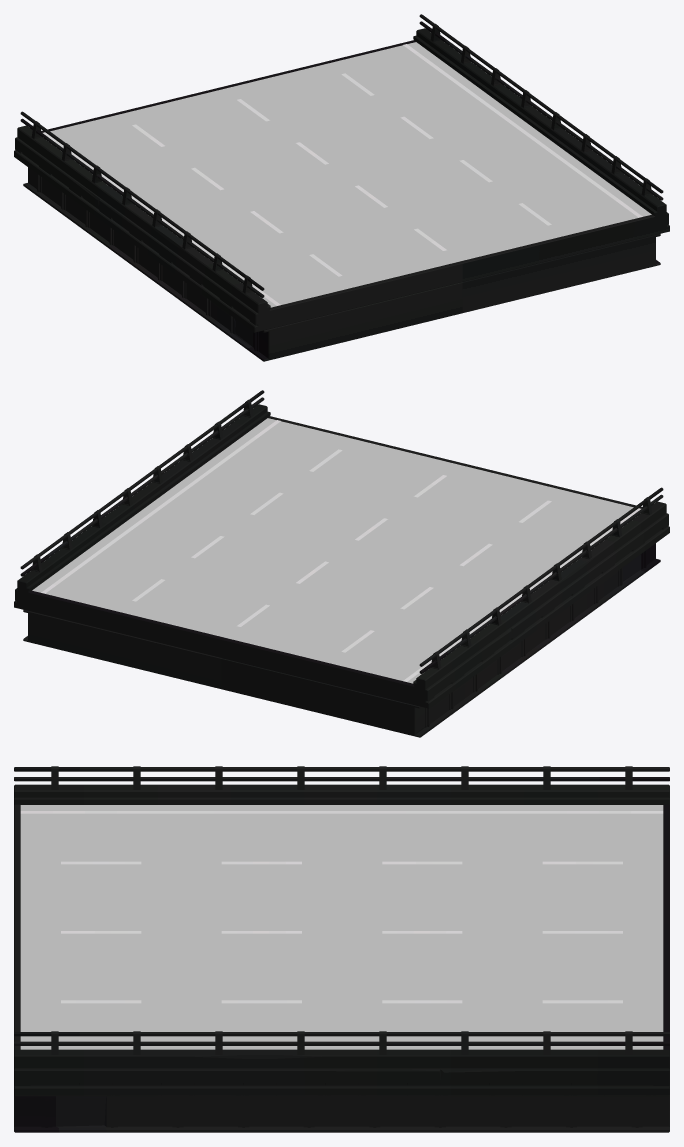
The model's file is Highway_Segment05.fbx.
3 renders of one model, top to bottom at view 1: azimuth 30°, elevation 25°; view 2: azimuth 150°, elevation 25°; view 3: azimuth 270°, elevation 25°, orthographic. The views are drawn at different scales.
Visible parts, largest first — view 1: SM_City_Highway_Segment_03a.mo; view 2: SM_City_Highway_Segment_03a.mo; view 3: SM_City_Highway_Segment_03a.mo.
Part boxes in pixels (x1=…): SM_City_Highway_Segment_03a.mo: x1=14, y1=14, x2=669, y2=361; SM_City_Highway_Segment_03a.mo: x1=14, y1=390, x2=669, y2=737; SM_City_Highway_Segment_03a.mo: x1=14, y1=766, x2=669, y2=1132.
Bounding box in the file's own units: 1990 × 342 × 2000.
